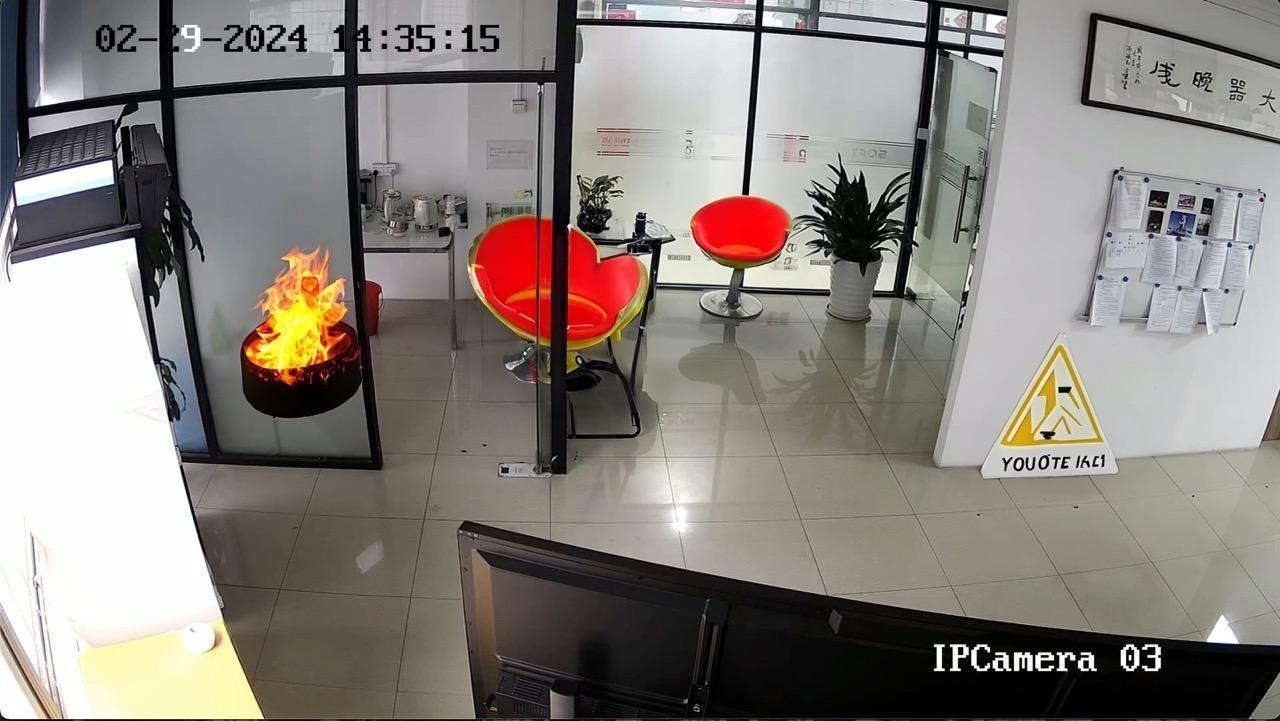fire: (216, 201, 392, 414)
